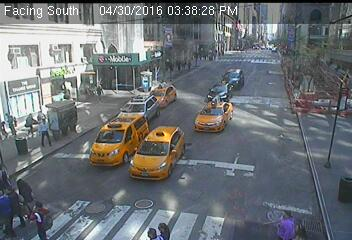neg: (64, 158, 105, 212), (187, 126, 217, 166), (156, 97, 177, 124), (44, 27, 64, 54), (241, 146, 261, 172), (308, 37, 327, 63), (113, 63, 131, 88), (211, 44, 228, 67), (241, 86, 258, 109), (282, 126, 299, 149), (120, 120, 137, 142), (116, 189, 133, 211), (281, 92, 296, 111), (212, 182, 227, 201), (164, 188, 176, 204)
pos: (30, 200, 54, 232), (15, 173, 39, 204), (30, 115, 53, 146), (275, 206, 297, 236), (93, 83, 105, 98)
